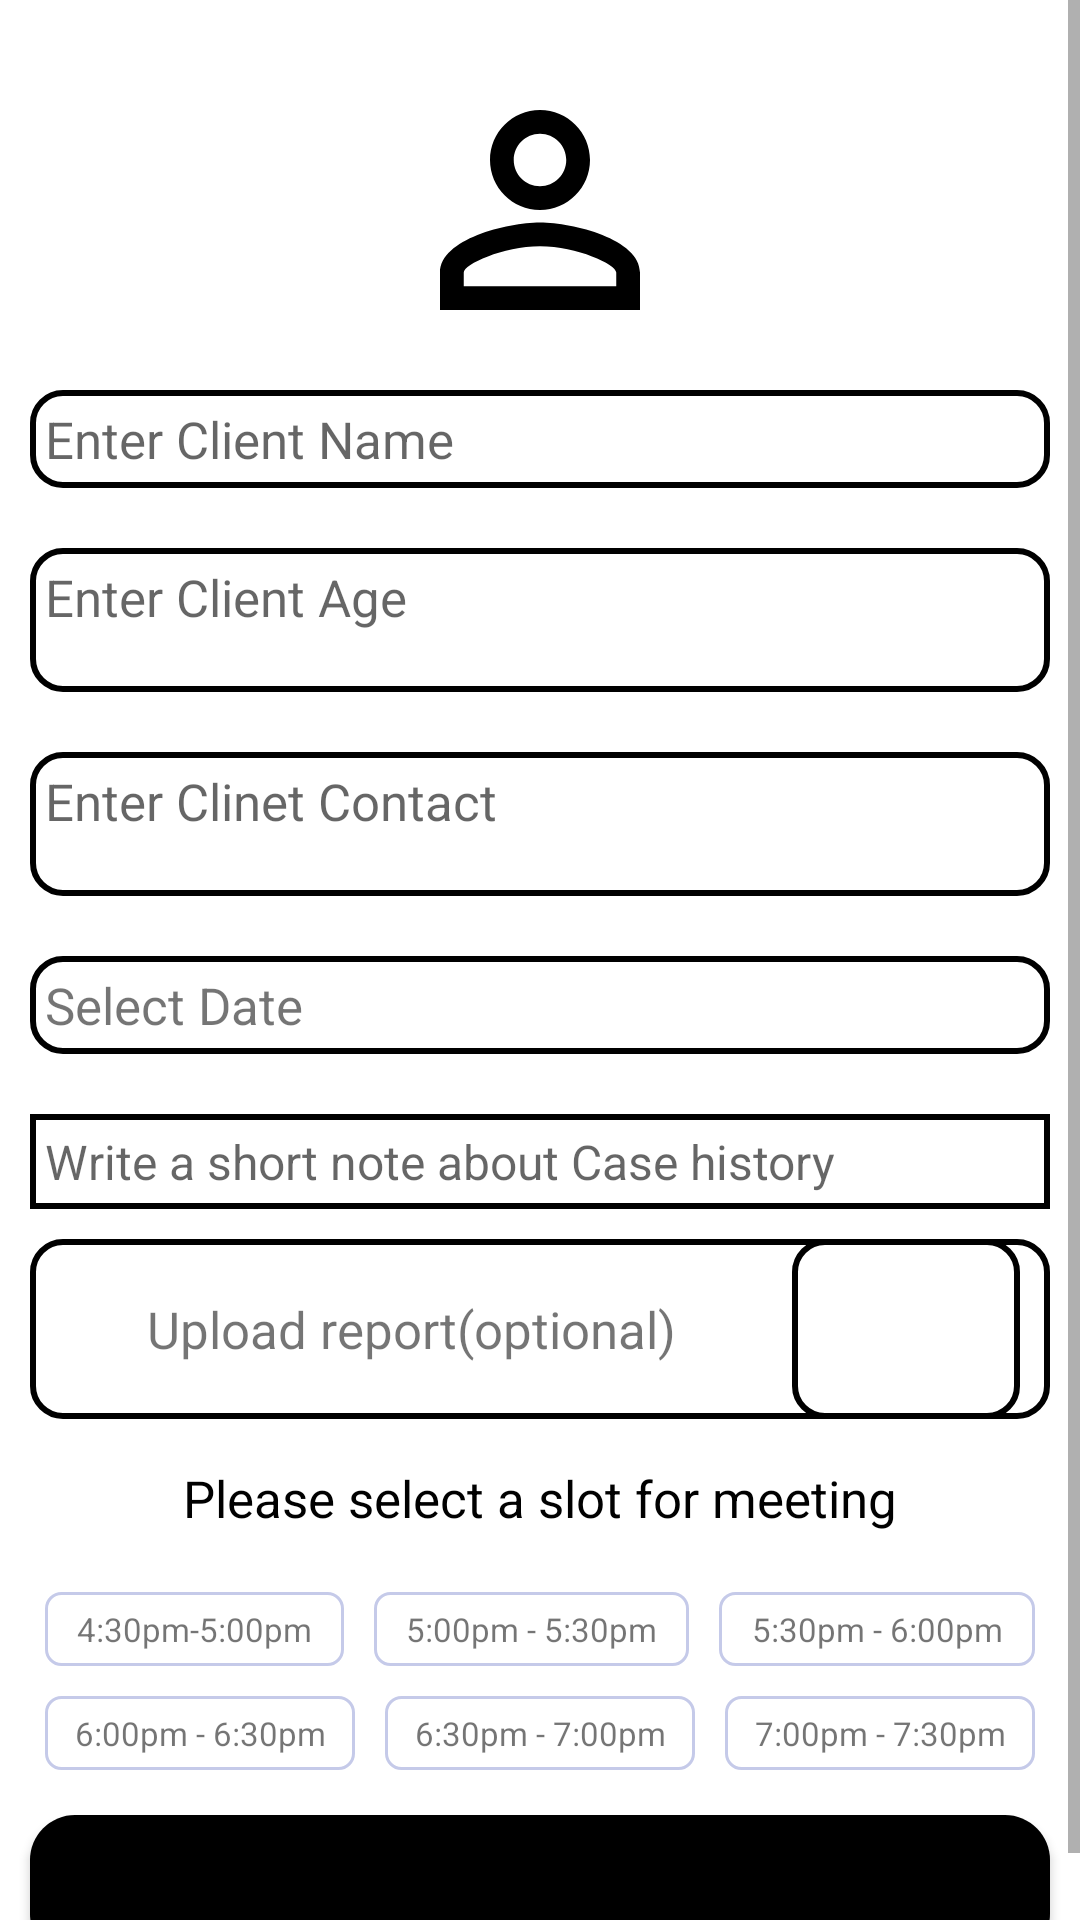

Icon bounding boxes for this 1080*1920 phone screenshot, format [x1, y1, x2, y2]:
user: [440, 110, 640, 310]
